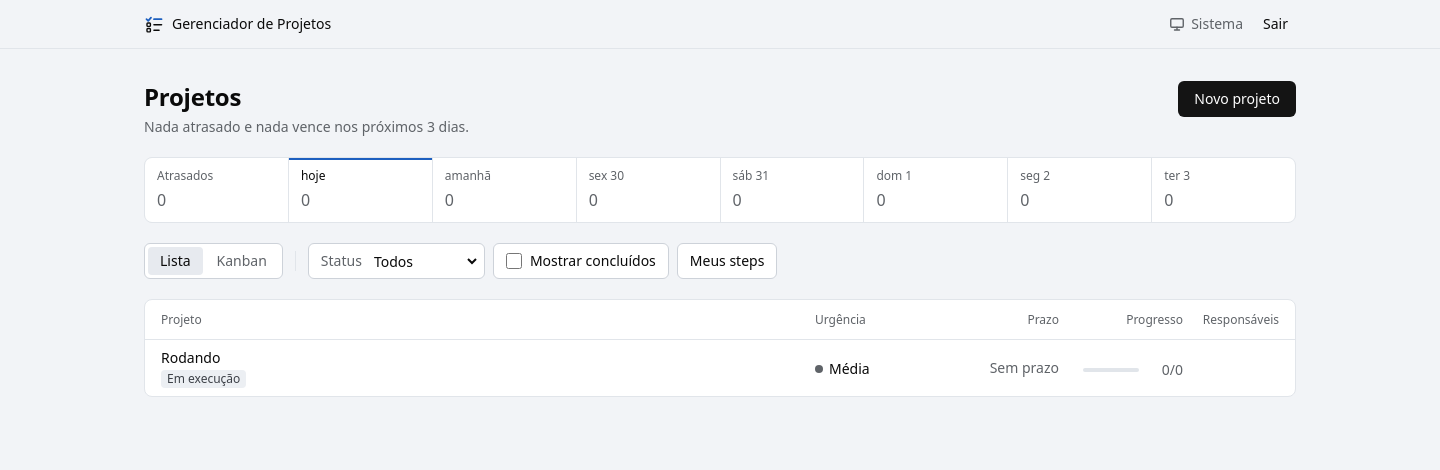
it: App › kanban com filtros padrão mostra concluídos na coluna Concluído
The image size is (1440, 470).
Expected: the text "Feito" is not shown
Click the button "Kanban".
click(242, 261)  # box [205,247,279,275]
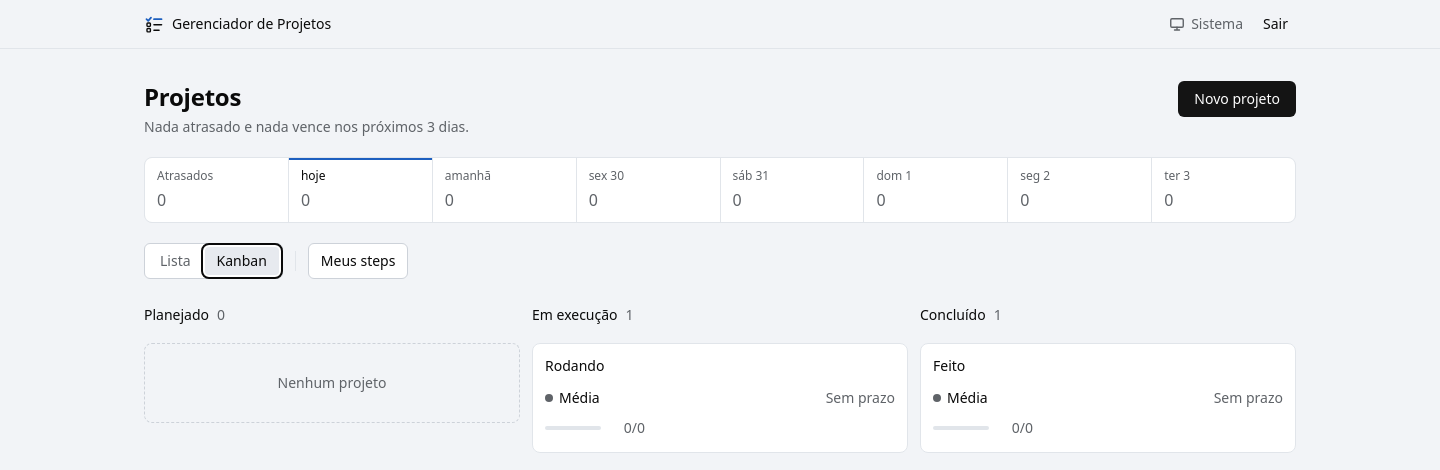
Expected: the text "Rodando" is shown, [545,356,604,375]
Expected: the text "Feito" is shown, [933,356,965,375]
